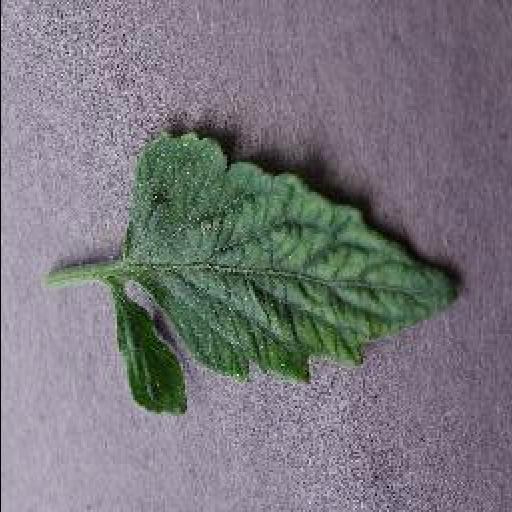disease_tomato: (109, 126, 463, 416)
